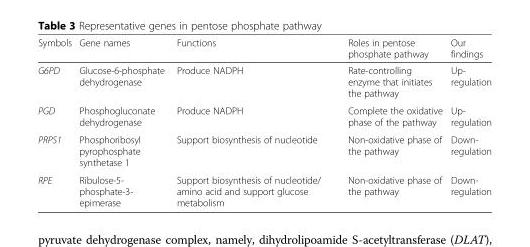table: (37, 36, 490, 207)
table column: (169, 36, 333, 207), (333, 36, 445, 207), (74, 36, 169, 207), (445, 36, 490, 207), (37, 36, 74, 207)
table column header: (37, 36, 490, 61)
table row: (37, 61, 490, 101), (37, 130, 490, 170), (37, 170, 490, 207), (37, 101, 490, 130), (37, 36, 490, 61)
